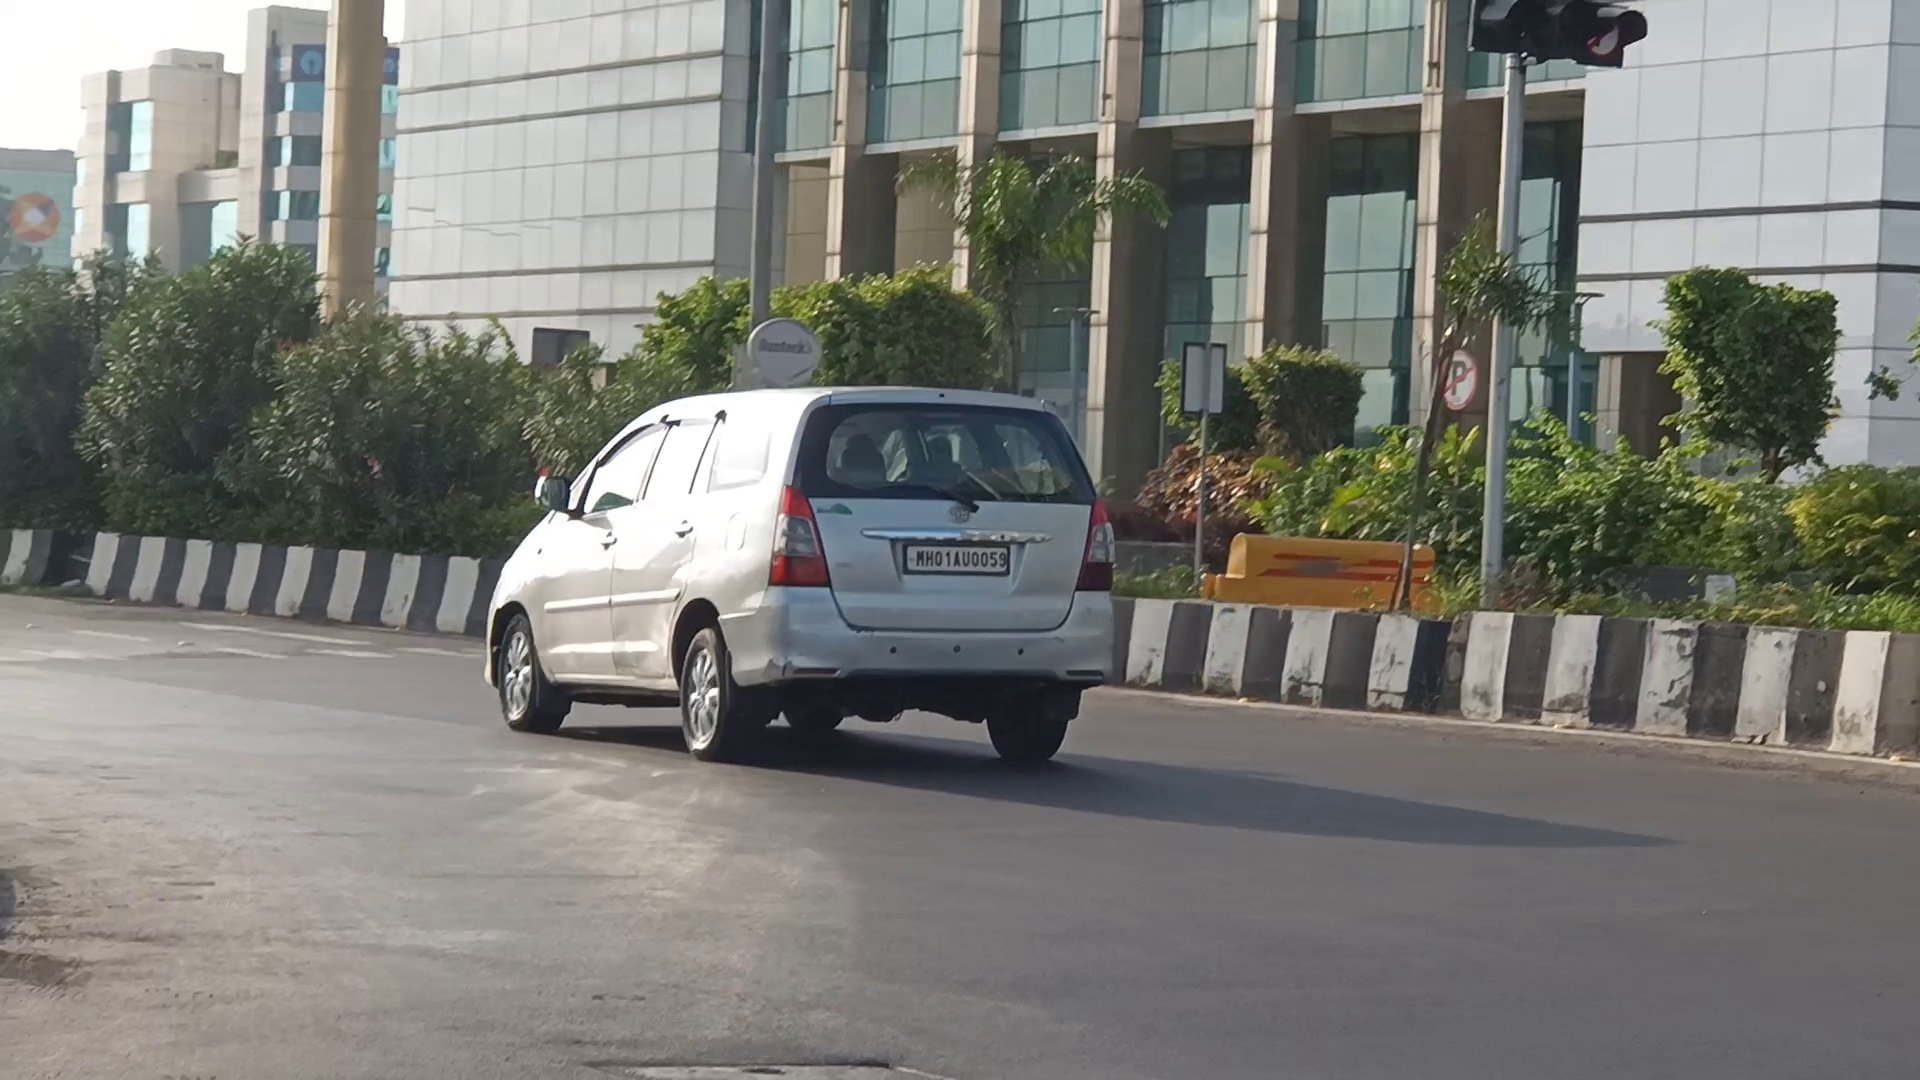MH01AU0059: (907, 542, 1010, 576)
